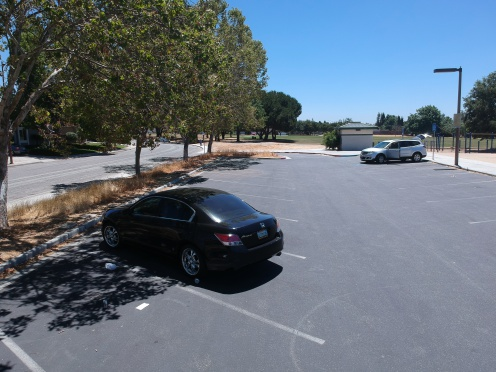plastic bag: (100, 260, 119, 271)
